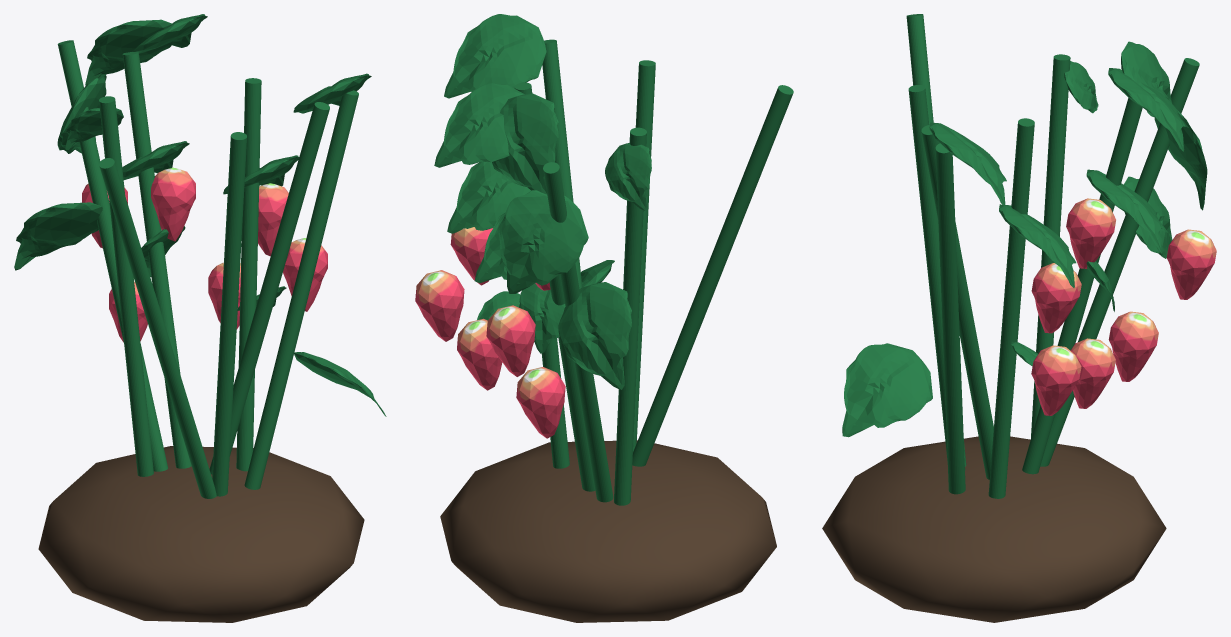
The model's file is strawberry.glb.
3 renders of one model, left to right at view 1: azimuth 30°, elevation 25°; view 2: azimuth 150°, elevation 25°; view 3: azimuth 270°, elevation 25°, orthographic. The views are drawn at different scales.
Visible parts, largest first — view 1: Cylinder.001, Icosphere, Icosphere.004, Icosphere.001, Icosphere.016, Icosphere.014, Icosphere.018, Icosphere.006, Icosphere.009, Icosphere.005, Icosphere.002, Icosphere.003 (+5 smaller); view 2: Icosphere, Cylinder.001, Icosphere.009, Icosphere.003, Icosphere.004, Icosphere.001, Icosphere.005, Icosphere.010, Icosphere.012, Icosphere.018, Icosphere.017, Icosphere.007 (+6 smaller); view 3: Icosphere, Cylinder.001, Icosphere.006, Icosphere.012, Icosphere.018, Icosphere.017, Icosphere.016, Icosphere.014, Icosphere.015, Icosphere.003, Icosphere.010, Icosphere.002 (+5 smaller).
Part boxes in pixels (<box>): Cylinder.001: <box>57,40,358,498</box>; Icosphere: <box>38,446,364,622</box>; Icosphere.004: <box>14,202,102,270</box>; Icosphere.001: <box>85,19,173,85</box>; Icosphere.016: <box>151,167,195,241</box>; Icosphere.014: <box>258,183,288,256</box>; Icosphere.018: <box>283,238,327,311</box>; Icosphere.006: <box>293,352,386,416</box>; Icosphere.009: <box>57,75,106,153</box>; Icosphere.005: <box>132,14,207,53</box>; Icosphere.002: <box>122,141,189,179</box>; Icosphere.003: <box>293,73,371,113</box>; Icosphere: <box>440,440,776,622</box>; Cylinder.001: <box>514,39,793,505</box>; Icosphere.009: <box>498,190,588,293</box>; Icosphere.003: <box>444,14,546,98</box>; Icosphere.004: <box>558,282,631,389</box>; Icosphere.001: <box>492,93,558,194</box>; Icosphere.005: <box>434,83,524,167</box>; Icosphere.010: <box>447,161,530,233</box>; Icosphere.012: <box>486,305,535,376</box>; Icosphere.018: <box>415,270,464,341</box>; Icosphere.017: <box>516,367,565,438</box>; Icosphere.007: <box>605,143,651,210</box>; Icosphere: <box>822,436,1166,622</box>; Cylinder.001: <box>906,14,1199,498</box>; Icosphere.006: <box>842,343,932,437</box>; Icosphere.012: <box>1166,229,1216,299</box>; Icosphere.018: <box>1031,345,1081,415</box>; Icosphere.017: <box>1108,311,1158,381</box>; Icosphere.016: <box>1066,198,1115,268</box>; Icosphere.014: <box>1031,263,1081,333</box>; Icosphere.015: <box>1070,338,1115,408</box>; Icosphere.003: <box>929,122,1006,205</box>; Icosphere.010: <box>999,204,1076,287</box>; Icosphere.002: <box>1086,169,1163,253</box>.
Bounding box in the file's own units: 5.14 × 8.77 × 5.77.
19 materials, 19 textured.
